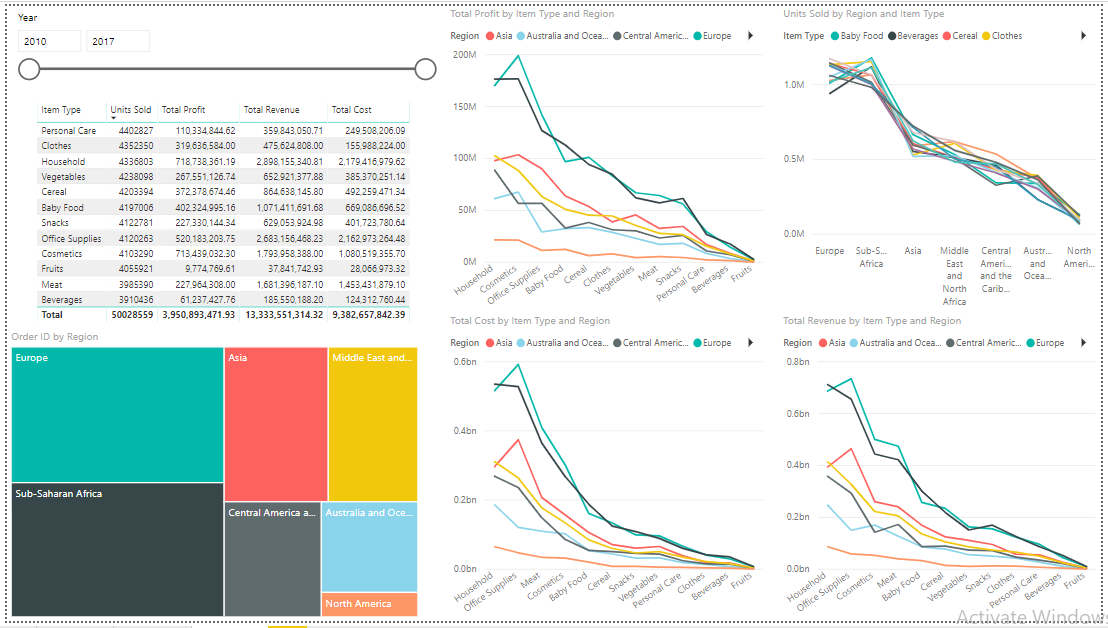

The page's visual inventory and layout, read from the dashboard file:
{"tool":"powerbi","page":{"name":"Page 1","canvas":[1280,720],"ordinal":1},"visuals":[{"type":"lineChart","fields":{"Y":["Sum(Sales Records.Units Sold)"],"Category":["Sales Records.Item Type"],"Series":["Sales Records.Country"]},"box":[729.1,0,550.9,360.6],"z":2},{"type":"tableEx","fields":{"Values":["Sales Records.Item Type","Sum(Sales Records.Units Sold)"]},"box":[661.3,411.1,154.3,270.1],"z":3},{"type":"treemap","fields":{"Group":["Sales Records.Region"],"Values":["CountNonNull(Sales Records.Order ID)"]},"box":[0,377.9,485.7,342],"z":4},{"type":"lineChart","fields":{"Y":["Sum(Sales Records.Total Profit)"],"Category":["Sales Records.Item Type"],"Series":["Sales Records.Country"]},"box":[193.2,0,536.2,360.6],"z":5},{"type":"tableEx","fields":{"Values":["Sales Records.Item Type","Sum(Sales Records.Total Profit)"]},"box":[816,410.9,188.5,270.4],"z":6},{"type":"tableEx","fields":{"Values":["Sales Records.Item Type","Sales Records.Unit Cost","Sales Records.Unit Price","Sales Records.Unit Profit"]},"box":[1013.9,411.1,266.1,267.4],"z":6},{"type":"slicer","fields":{"Values":["Sales Records.Item Type"]},"box":[486,446,129.4,274],"z":7},{"type":"tableEx","fields":{"Values":["Sales Records.Country"]},"box":[0,0,192.9,360.6],"z":8},{"type":"slicer","fields":{"Values":["Sales Records.Order Date.Variation.Date Hierarchy.Year"]},"box":[485.7,360.6,175.6,99.8],"z":9}]}

Visuals, with their boxes on the page's 1280x720 design canvas (x1, y1, x2, y2). These are canvas units, not pixel positions in the 1108x628 screenshot, which may show the page scaled, cropped or inside an application window:
lineChart - Sum(Sales Records.Units Sold) x Sales Records.Item Type: left=729, top=0, right=1280, bottom=361
tableEx - Sales Records.Item Type x Sum(Sales Records.Units Sold): left=661, top=411, right=816, bottom=681
treemap - Sales Records.Region x CountNonNull(Sales Records.Order ID): left=0, top=378, right=486, bottom=720
lineChart - Sum(Sales Records.Total Profit) x Sales Records.Item Type: left=193, top=0, right=729, bottom=361
tableEx - Sales Records.Item Type x Sum(Sales Records.Total Profit): left=816, top=411, right=1004, bottom=681
tableEx - Sales Records.Item Type x Sales Records.Unit Cost: left=1014, top=411, right=1280, bottom=678
slicer - Sales Records.Item Type: left=486, top=446, right=615, bottom=720
tableEx - Sales Records.Country: left=0, top=0, right=193, bottom=361
slicer - Sales Records.Order Date.Variation.Date Hierarchy.Year: left=486, top=361, right=661, bottom=460
